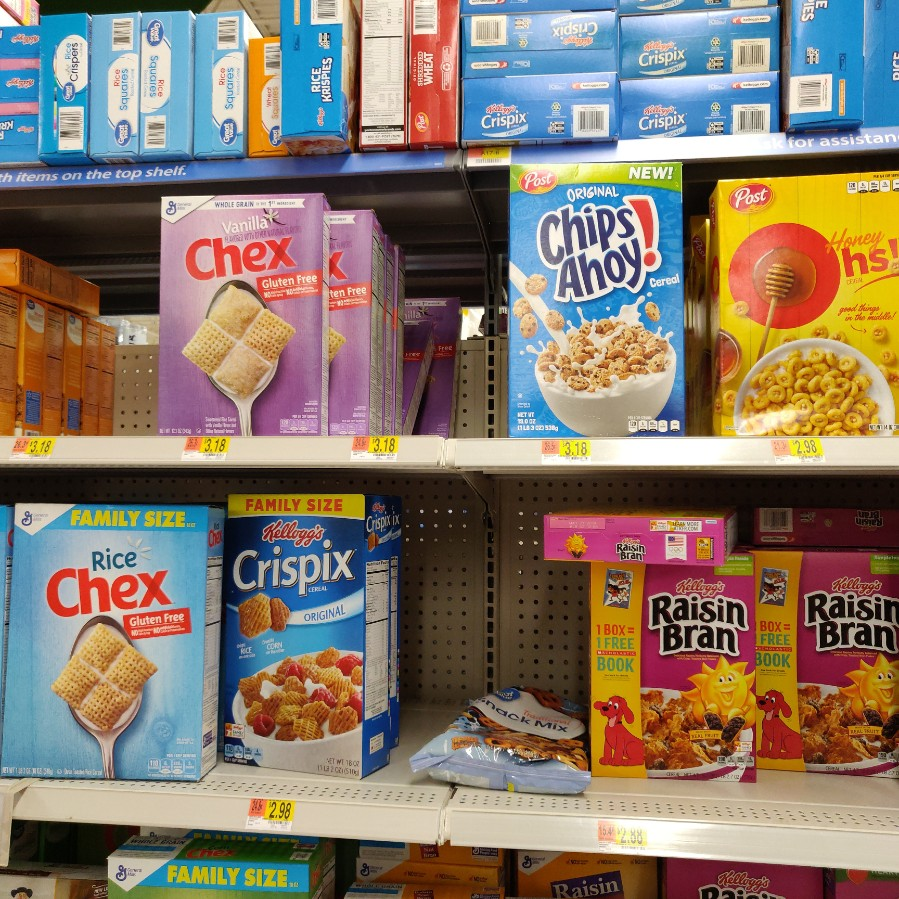Chips Ahoys-565717529: (510, 160, 689, 439)
